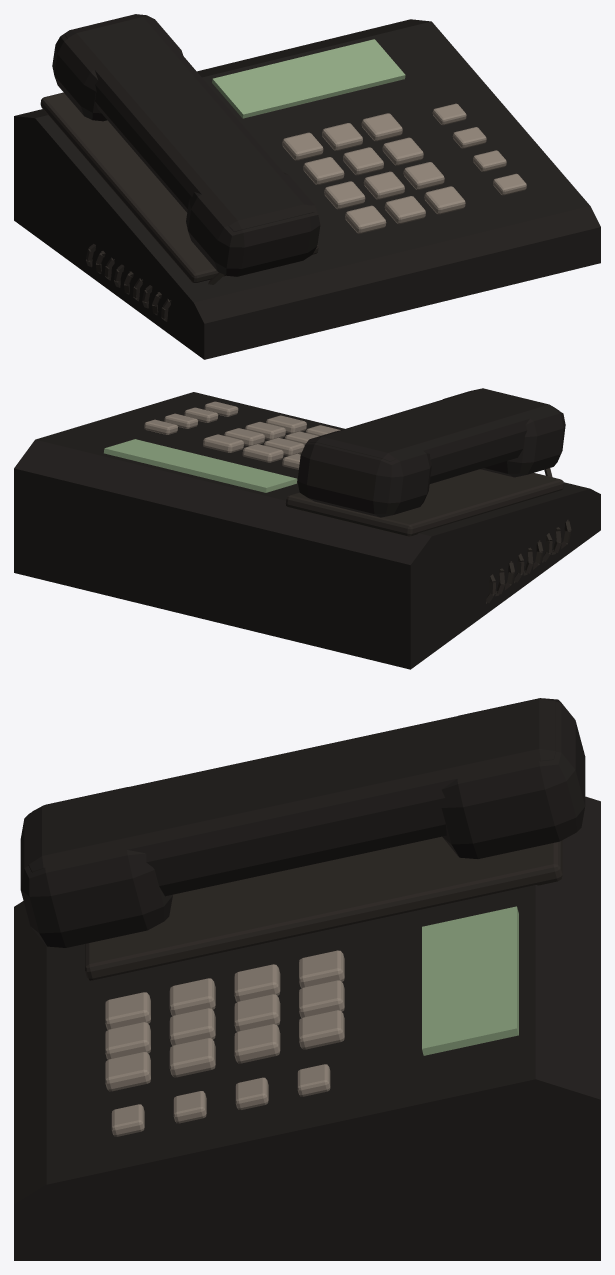
File: hh_cat_desk_phone.glb
3 renders of one model, top to bottom at view 1: azimuth 30°, elevation 25°; view 2: azimuth 150°, elevation 25°; view 3: azimuth 270°, elevation 25°, orthographic. The views are drawn at different scales.
Parts seen in each view (by area): view 1: phone_body, handset, handset_end, cradle, display, handset_end.001, phone_key.011, phone_key.005, phone_key.006, phone_key, phone_key.002, phone_key.007 (+10 smaller); view 2: phone_body, handset, handset_end.001, cradle, display, handset_end, phone_key.001, phone_key.002, phone_key.011, phone_key.008, phone_key.005, phone_key.004 (+1 smaller); view 3: phone_body, handset, cradle, handset_end, handset_end.001, display, phone_key.008, phone_key.005, phone_key.002, phone_key.011, phone_key.003, phone_key.004 (+10 smaller).
Boxes of the visible parts, x1,y1,x2,y2 form: phone_body: (14, 19, 600, 359); handset: (65, 14, 314, 231); handset_end: (186, 172, 320, 276); cradle: (40, 92, 318, 282); display: (212, 39, 405, 118); handset_end.001: (52, 14, 183, 121); phone_key.011: (424, 186, 465, 214); phone_key.005: (382, 137, 423, 165); phone_key.006: (324, 181, 365, 209); phone_key: (282, 132, 323, 160); phone_key.002: (361, 113, 402, 141); phone_key.007: (363, 171, 404, 199); phone_body: (14, 392, 600, 669); handset: (310, 388, 559, 483); handset_end.001: (297, 430, 431, 517); cradle: (285, 469, 563, 536); display: (104, 439, 297, 492); handset_end: (443, 388, 565, 477); phone_key.001: (242, 444, 283, 462); phone_key.002: (203, 434, 243, 452); phone_key.011: (266, 415, 306, 433); phone_key.008: (245, 422, 285, 439); phone_key.005: (224, 428, 264, 446); phone_key.004: (264, 437, 304, 455); phone_body: (14, 796, 600, 1260); handset: (28, 698, 555, 896); cradle: (85, 836, 562, 980); handset_end: (20, 787, 172, 947); handset_end.001: (441, 698, 585, 858); display: (422, 906, 518, 1055); phone_key.008: (169, 1038, 215, 1077); phone_key.005: (234, 1024, 280, 1063); phone_key.002: (299, 1010, 344, 1049); phone_key.011: (105, 1052, 150, 1091); phone_key.003: (234, 964, 280, 1001); phone_key.004: (234, 994, 280, 1031).
Size of the model in its own units: 0.22 by 0.1 by 0.18.
